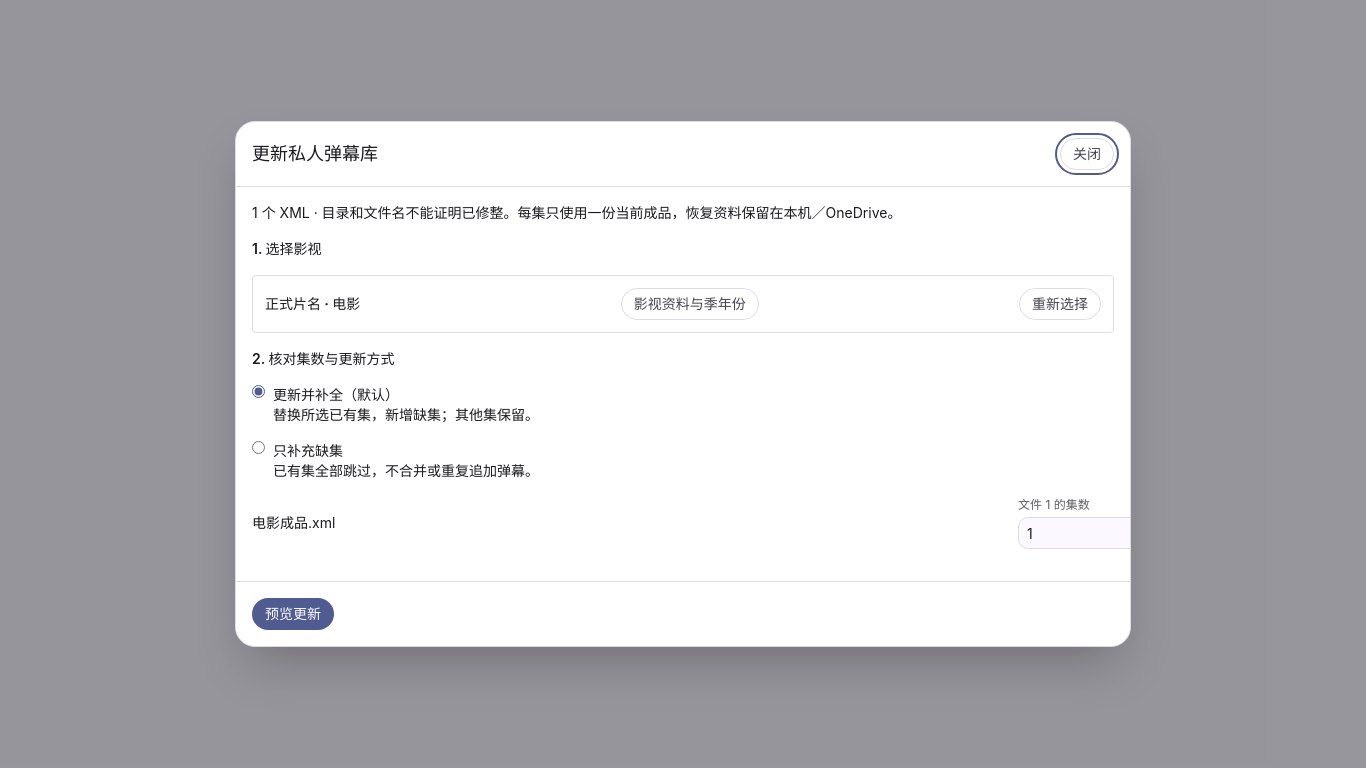
it: starts an existing movie folder update as its single movie episode
The width and height of the screenshot is (1366, 768).
Click the button "预览更新": (293, 614) [252, 598, 334, 630]
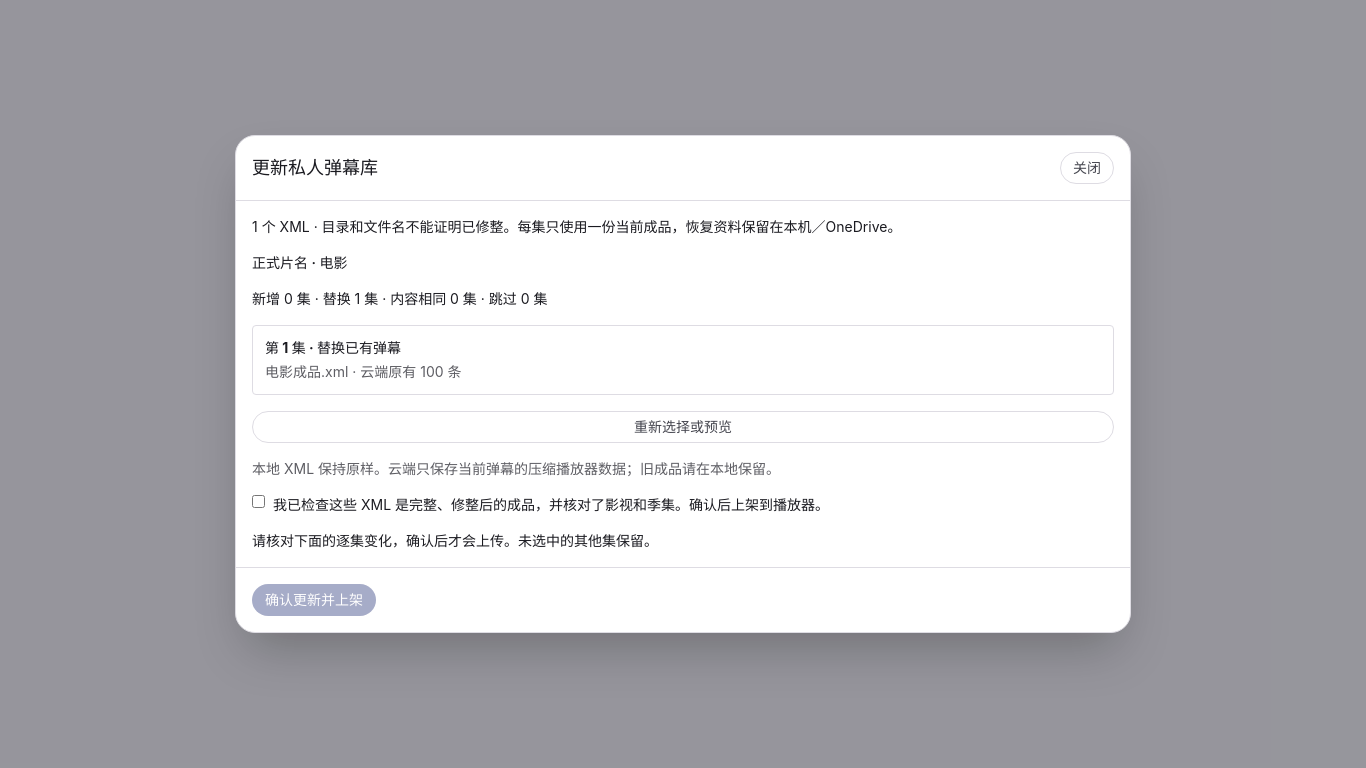
Expected: the text "第 1 集 · 替换已有弹幕" is shown, [265, 339, 401, 356]
